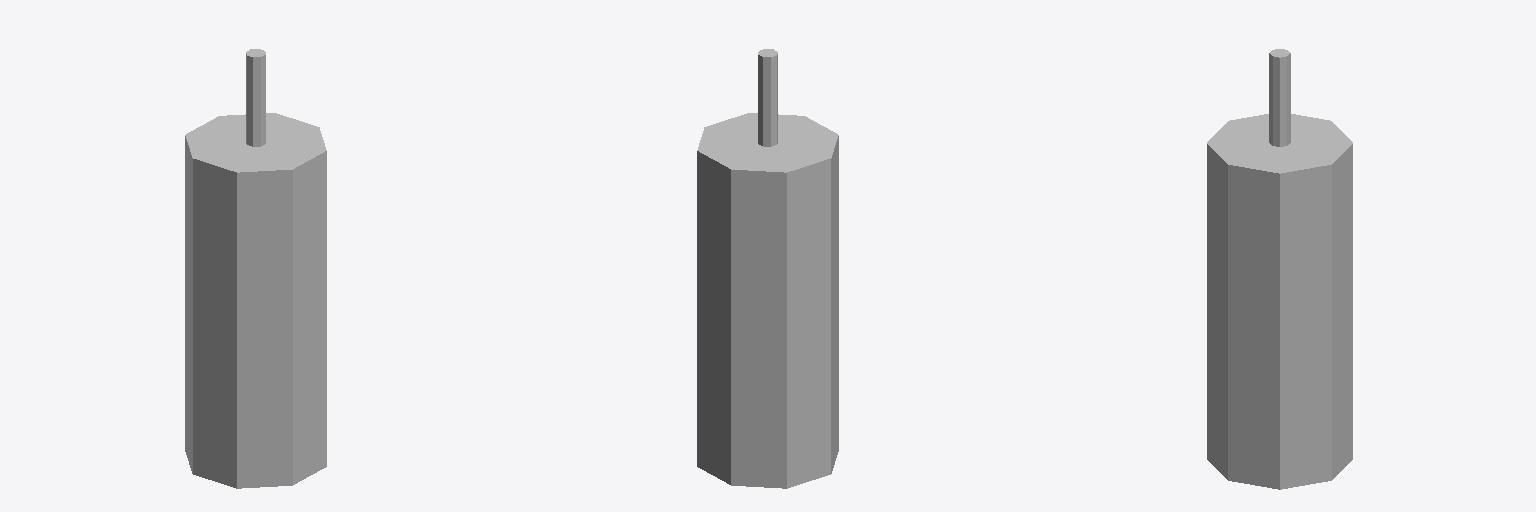
The model's file is candle-tall.obj.
3 renders of one model, left to right at view 1: azimuth 30°, elevation 25°; view 2: azimuth 150°, elevation 25°; view 3: azimuth 270°, elevation 25°, orthographic.
Visible parts, largest first — view 1: candle-tall; view 2: candle-tall; view 3: candle-tall.
Boxes of the visible parts, x1,y1,x2,y2 form: candle-tall: [185, 49, 326, 488]; candle-tall: [697, 49, 838, 488]; candle-tall: [1207, 49, 1352, 489].
Size of the model in its own units: 0.247 by 0.7545 by 0.247.